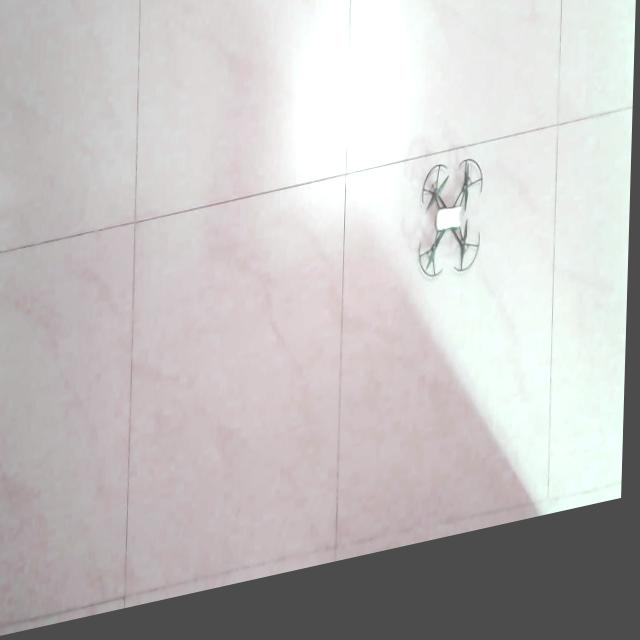drone: (420, 179, 485, 299)
